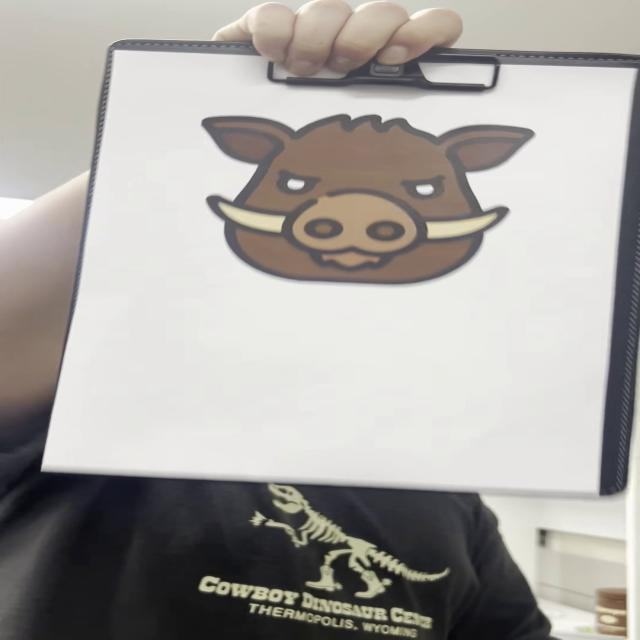animal: (199, 111, 536, 288)
